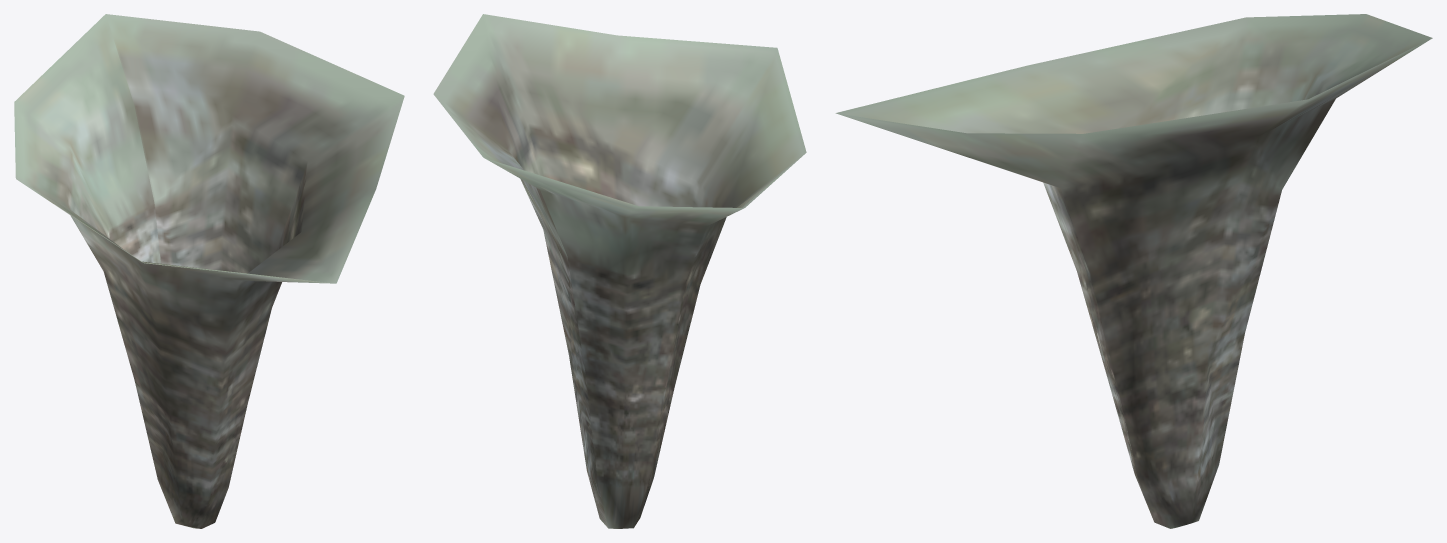
File: TROLLHOLE02_PS-MAINSTALAG90.fbx
3 views of the same model, side by side, from view 1: azimuth 30°, elevation 25°; view 2: azimuth 150°, elevation 25°; view 3: azimuth 270°, elevation 25° (orthographic). The views are drawn at different scales.
Visible parts, largest first — view 1: TROLLHOLE02_PS-MAINSTALAG90; view 2: TROLLHOLE02_PS-MAINSTALAG90; view 3: TROLLHOLE02_PS-MAINSTALAG90.
Boxes of the visible parts, x1,y1,x2,y2 form: TROLLHOLE02_PS-MAINSTALAG90: (14, 14, 404, 528); TROLLHOLE02_PS-MAINSTALAG90: (433, 14, 806, 528); TROLLHOLE02_PS-MAINSTALAG90: (835, 14, 1432, 528).
Size of the model in its own units: 16727 by 21474 by 23197.
1 material, 1 textured.
